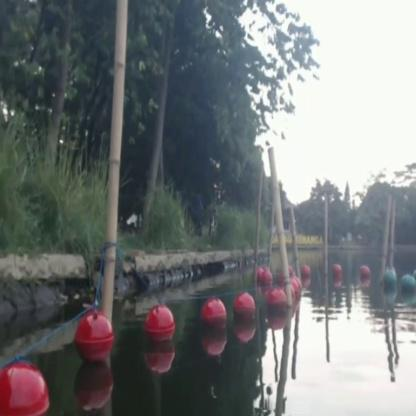green_buoy: (380, 268, 396, 297), (402, 272, 415, 291)
red_buoy: (0, 371, 47, 415), (76, 311, 112, 360), (144, 303, 176, 342), (201, 301, 224, 334), (233, 296, 255, 326), (270, 294, 286, 321), (262, 266, 274, 288), (290, 278, 300, 303), (358, 265, 370, 282), (334, 262, 342, 282), (303, 266, 312, 282)
